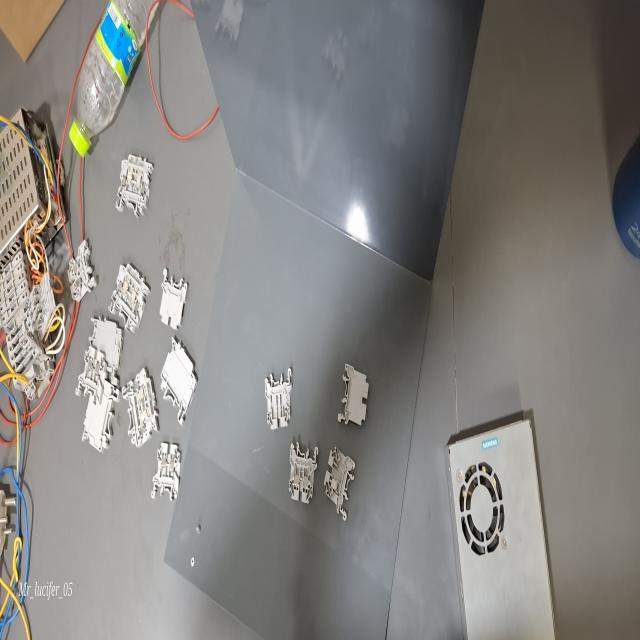Inverted: (336, 358, 369, 431), (158, 264, 189, 334)
Pass: (286, 438, 321, 506), (151, 438, 182, 508), (66, 236, 96, 305), (76, 343, 108, 406)
Reject: (323, 445, 358, 524), (262, 366, 294, 432)
